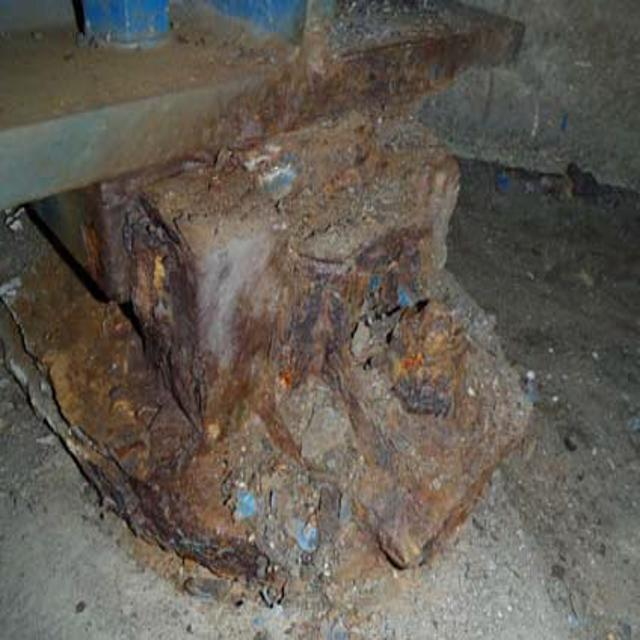corrosion: (81, 53, 548, 590)
